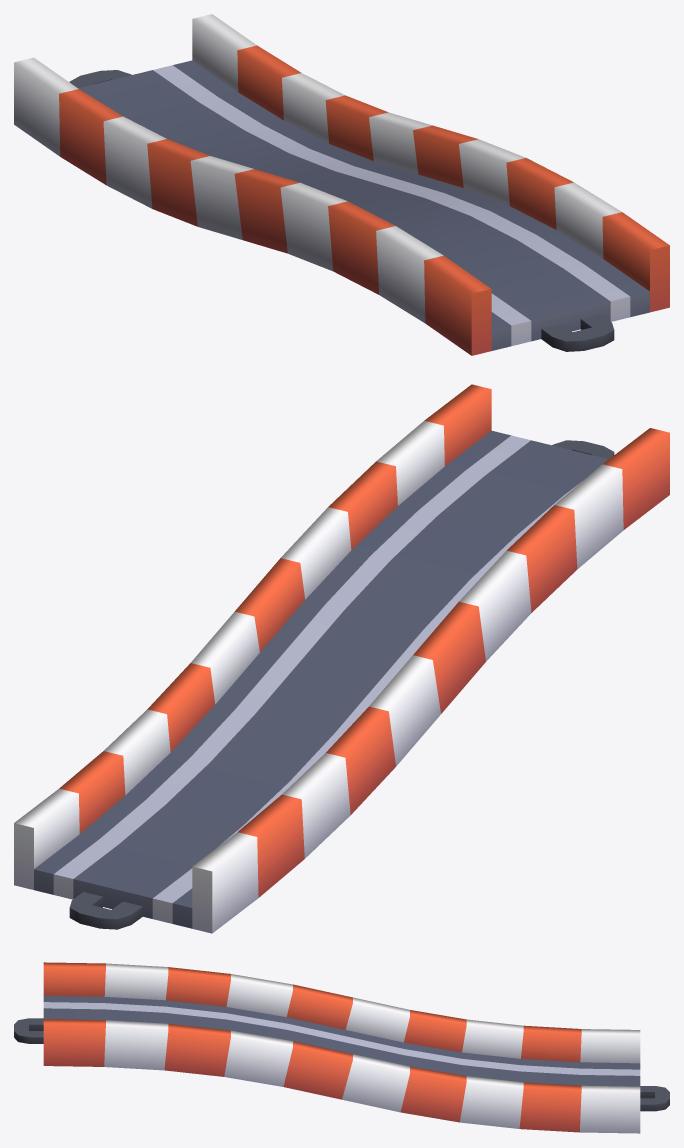
The model's file is kenney-toy-car-track-road-narrow-straight-hill-complete-half.glb.
3 views of the same model, one above another, from view 1: azimuth 30°, elevation 25°; view 2: azimuth 150°, elevation 25°; view 3: azimuth 270°, elevation 25° (orthographic). The views are drawn at different scales.
Visible parts, largest first — view 1: track-road-narrow-straight-hill-complete-half; view 2: track-road-narrow-straight-hill-complete-half; view 3: track-road-narrow-straight-hill-complete-half.
Part boxes in pixels (x1=…): track-road-narrow-straight-hill-complete-half: x1=14, y1=14, x2=669, y2=355; track-road-narrow-straight-hill-complete-half: x1=14, y1=384, x2=669, y2=933; track-road-narrow-straight-hill-complete-half: x1=14, y1=962, x2=669, y2=1133.
Size of the model in its own units: 1 by 0.7998 by 4.4.
1 material, 1 textured.
